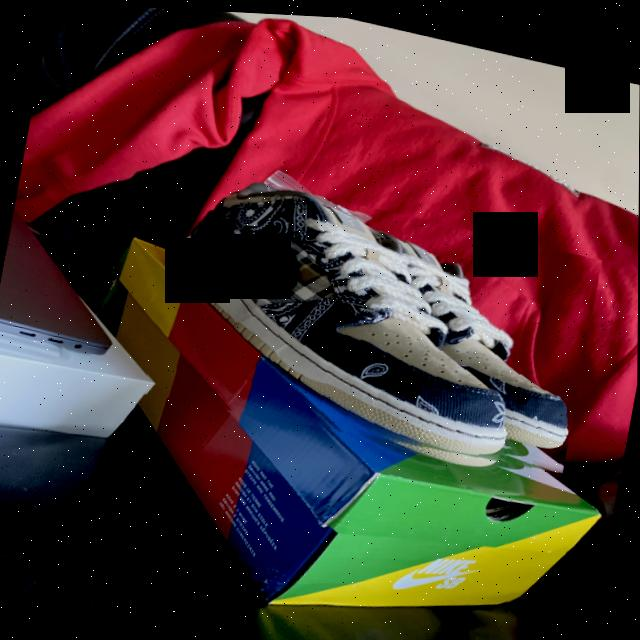shoe: (141, 161, 602, 484)
